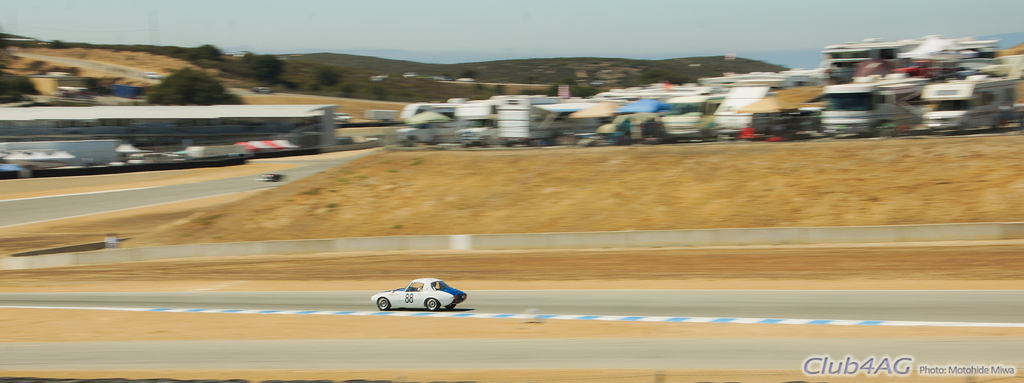cars: (372, 276, 463, 311)
